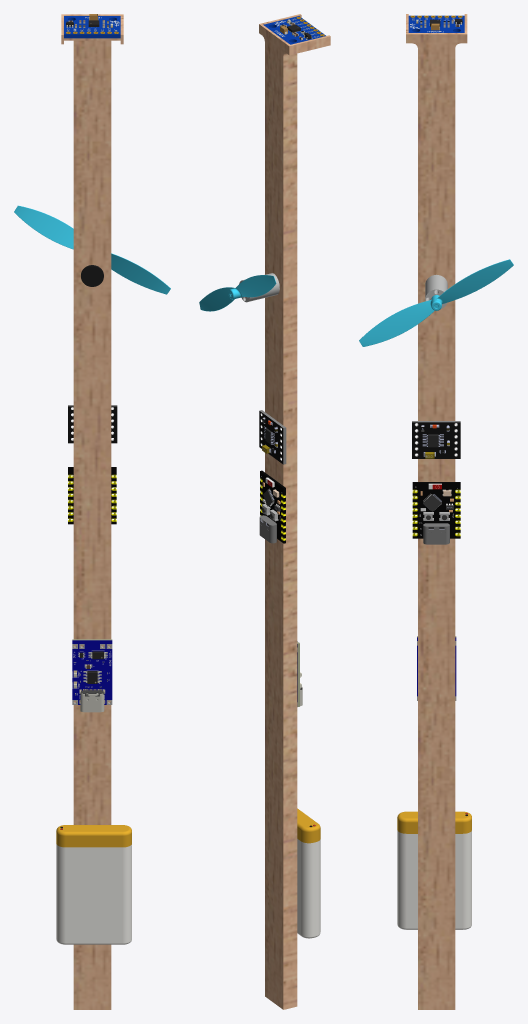
File: iterasi4-fullpart.obj
3 views of the same model, side by side, from view 1: azimuth 90°, elevation 25°; view 2: azimuth 210°, elevation 25°; view 3: azimuth 270°, elevation 25° (orthographic). The views are drawn at different scales.
Parts seen in each view (by area): view 1: Solid1, Solid1:1, Solid1:2, Solid1:7, Srf1, Solid2, Solid1:8, Solid2:1, Solid1:3, Solid2:3; view 2: Solid1:1, Solid1, Solid1:2, Solid1:7, Solid2:1, Solid1:3, Solid1:8, Solid2, Solid1:4; view 3: Solid1:1, Solid1, Solid1:2, Solid1:7, Solid2:1, Solid1:3, Solid2, Solid1:8, Solid1:4, Solid1:6.
Boxes of the visible parts, x1,y1,x2,y2 form: Solid1: [61, 14, 123, 520]; Solid1:1: [73, 520, 111, 1009]; Solid1:2: [56, 844, 131, 944]; Solid1:7: [14, 205, 170, 294]; Srf1: [72, 640, 112, 704]; Solid2: [56, 825, 131, 847]; Solid1:8: [64, 16, 120, 38]; Solid2:1: [68, 467, 116, 524]; Solid1:3: [68, 405, 117, 443]; Solid2:3: [81, 265, 103, 286]; Solid1:1: [265, 527, 297, 1009]; Solid1: [259, 14, 330, 529]; Solid1:2: [297, 839, 320, 938]; Solid1:7: [199, 275, 276, 311]; Solid2:1: [260, 470, 285, 543]; Solid1:3: [259, 410, 286, 464]; Solid1:8: [263, 16, 325, 44]; Solid2: [297, 808, 320, 843]; Solid1:4: [259, 515, 276, 543]; Solid1:1: [418, 538, 455, 1009]; Solid1: [406, 14, 467, 481]; Solid1:2: [397, 830, 471, 929]; Solid1:7: [359, 259, 513, 346]; Solid2:1: [412, 482, 460, 538]; Solid1:3: [412, 421, 460, 458]; Solid2: [397, 811, 471, 833]; Solid1:8: [408, 15, 464, 32]; Solid1:4: [423, 523, 449, 544]; Solid1:6: [425, 274, 447, 308].
Size of the model in its own units: 3.7 by 40.56 by 5.81.
Materials: 64 (1 with a texture image).
